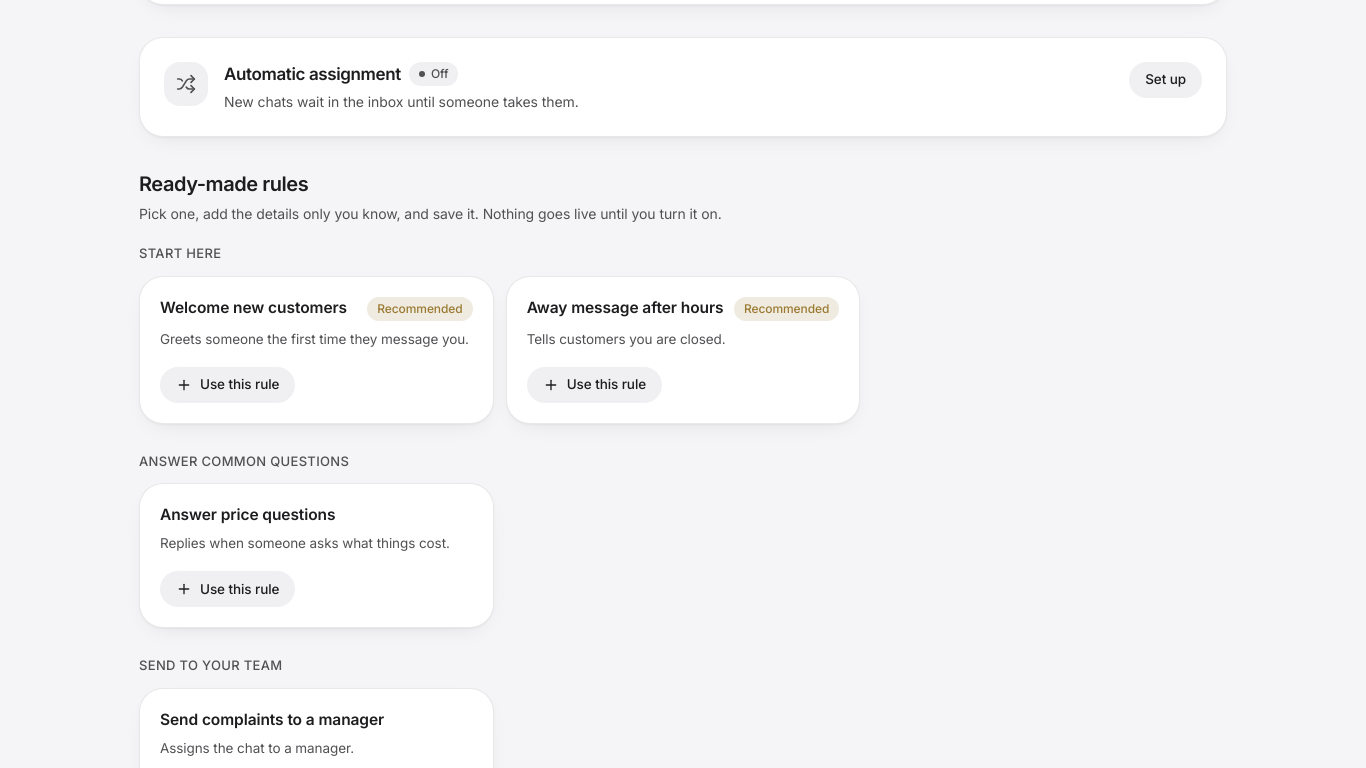
it: your own rules › shows the server's reason when a rule is refused
The width and height of the screenshot is (1366, 768).
(page scrolled)
Click the button "Use this rule" below "Welcome new customers".
click(228, 384)  # box [160,366,295,402]
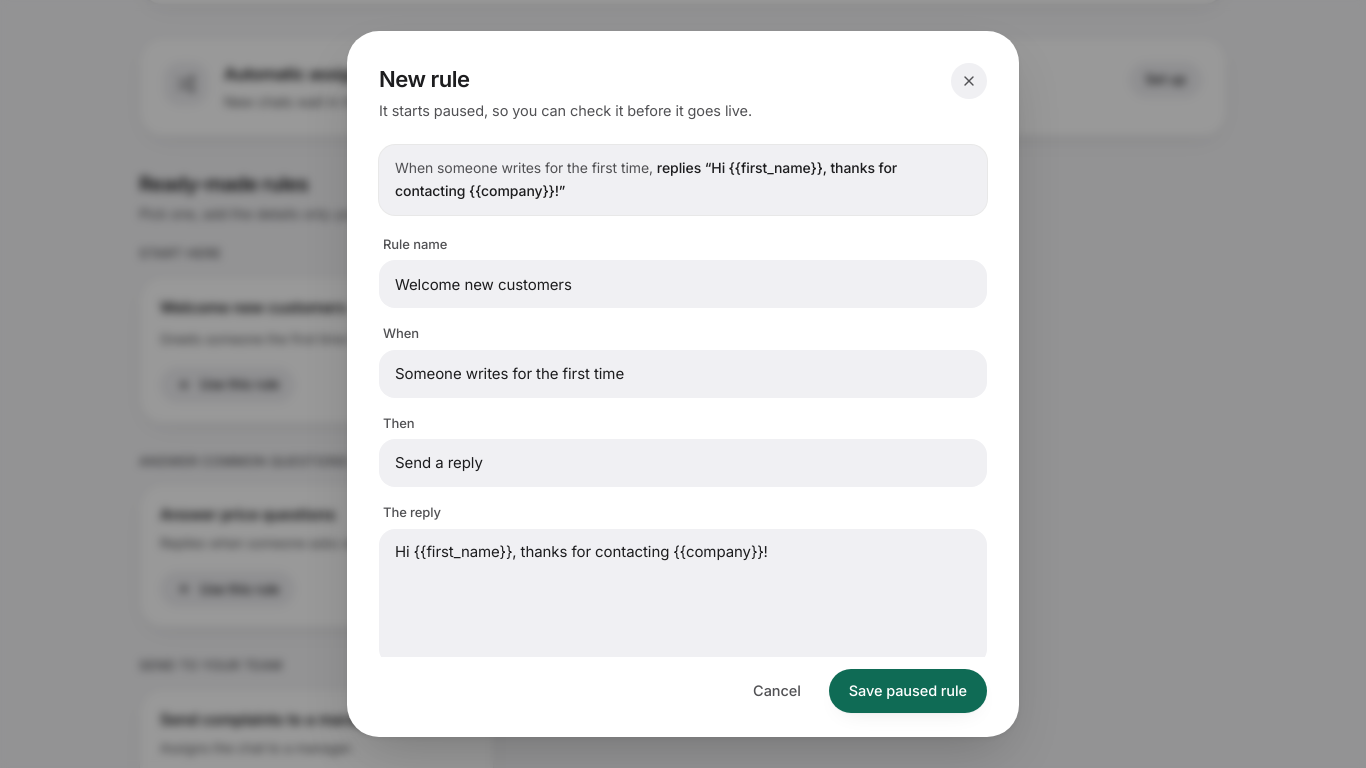
Click the button "Save paused rule".
click(908, 691)  # box [829,669,987,713]
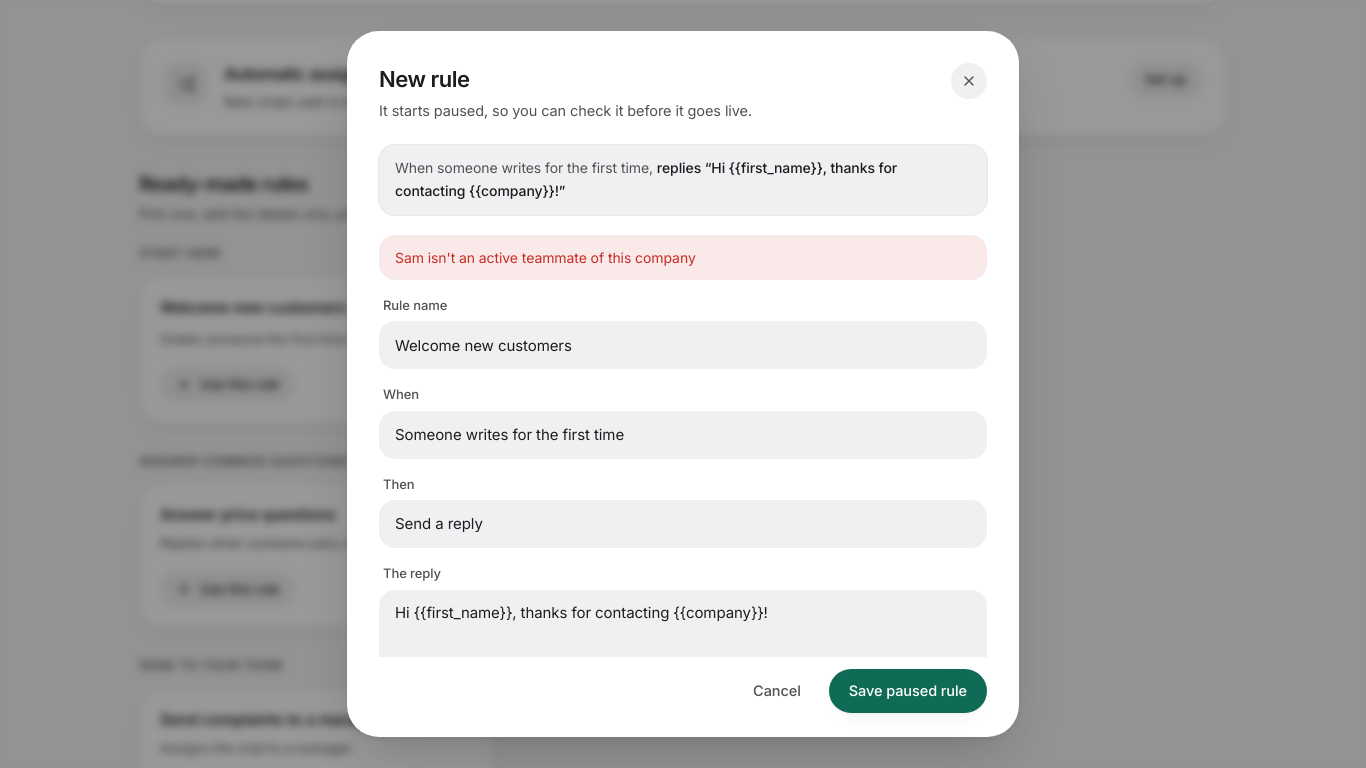
Check: the dialog "New rule" is shown, box [347,31,1019,737]
Check: the message shows "isn't an active teammate", box [395,249,696,266]
